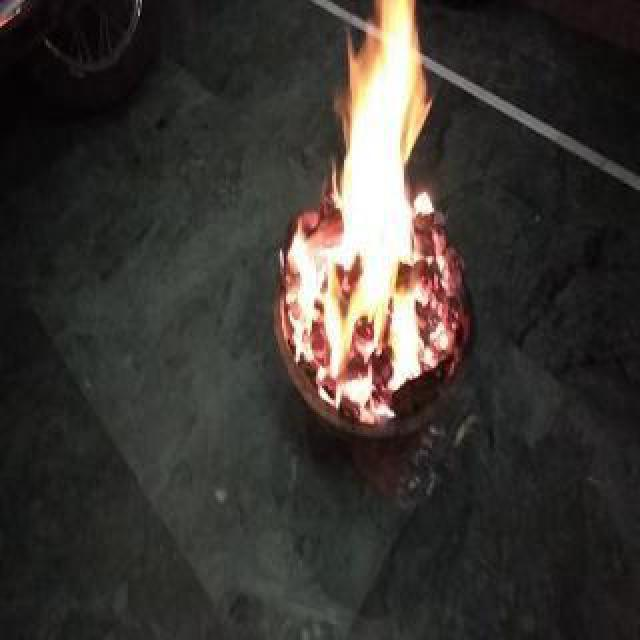Fire: (274, 2, 434, 438), (436, 208, 478, 384)
